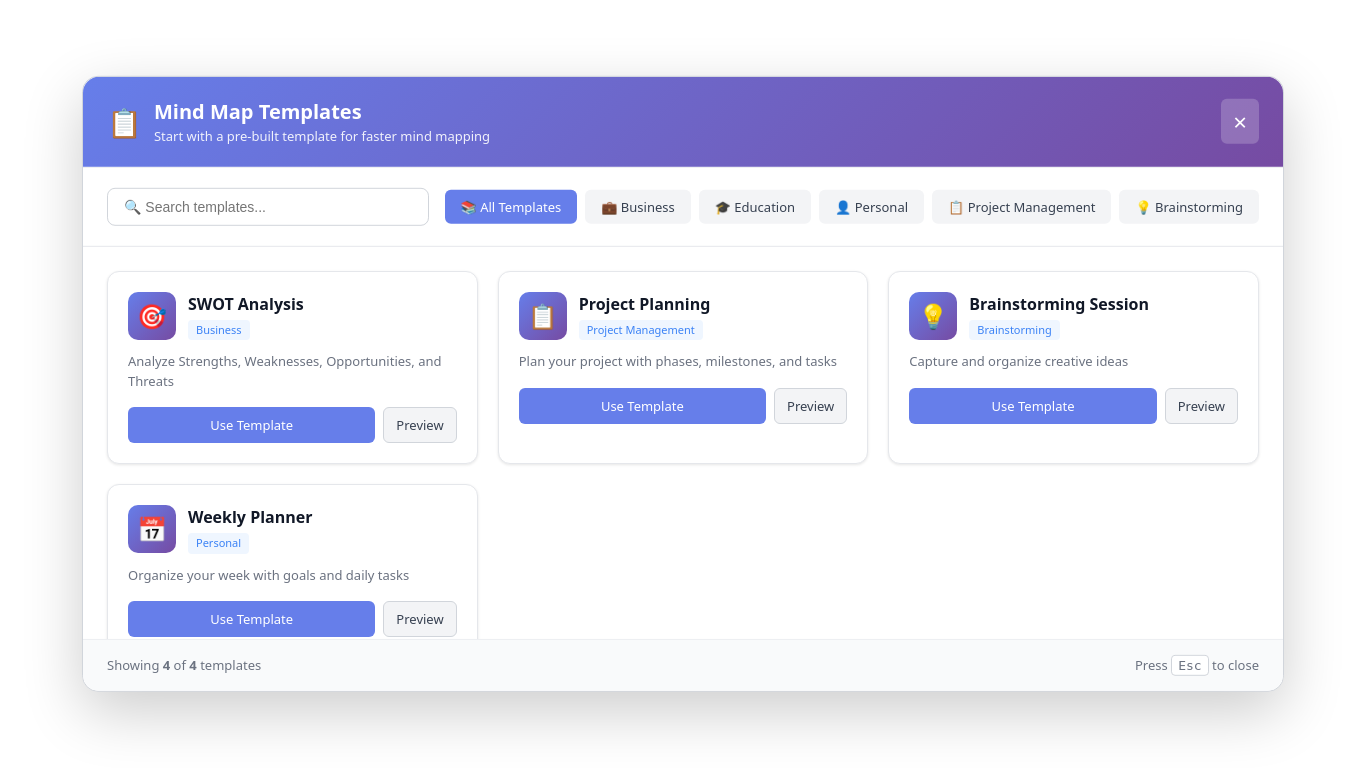
Test: TemplatesPanel › search and filter functionality › filters templates when search query is entered
The image size is (1366, 768).
Note: Type "SWOT" in search
Type "SWOT" into the field named "search templates by name or description" at (268, 206), box [107,187,428,225]
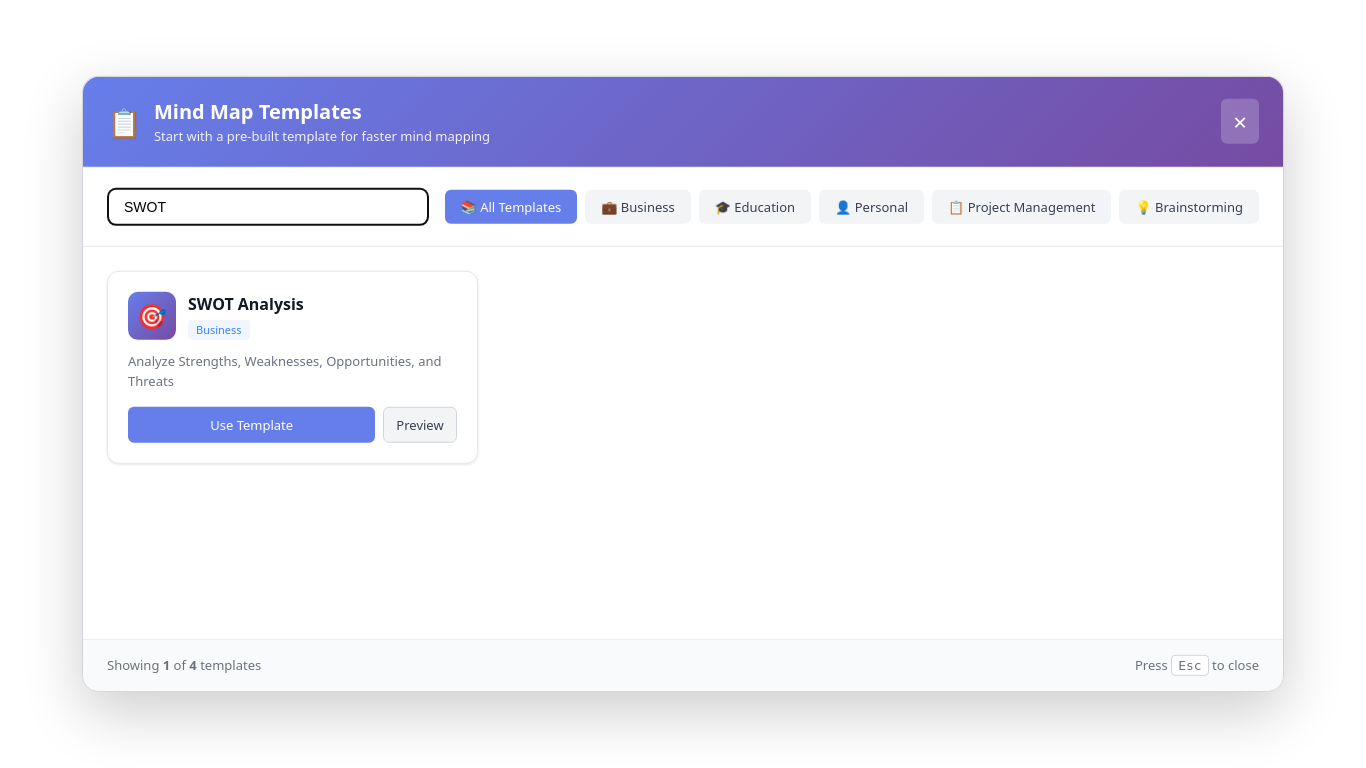
Check: the heading "SWOT Analysis" is shown, box [188,292,304,314]
Check: the heading "Project Planning" is gone
